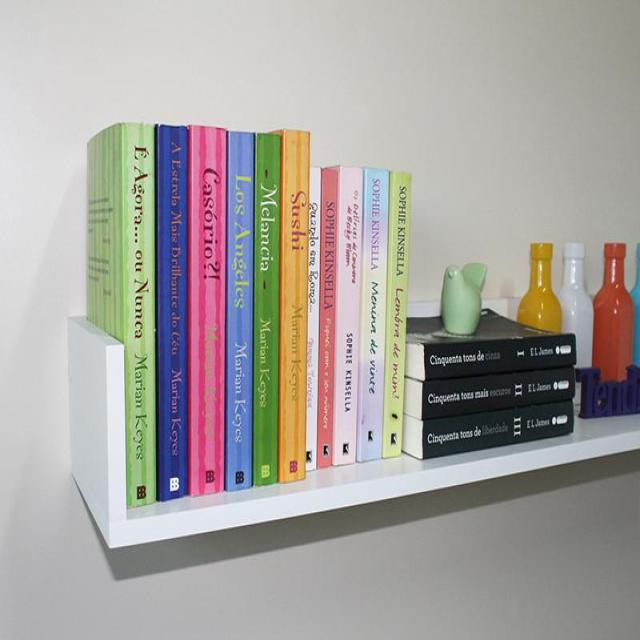book: (192, 144, 221, 488), (130, 128, 158, 469), (162, 138, 184, 466), (231, 143, 249, 486), (285, 138, 301, 482), (259, 138, 272, 484), (342, 172, 354, 462), (428, 344, 570, 363), (428, 387, 566, 404), (427, 425, 570, 436)
